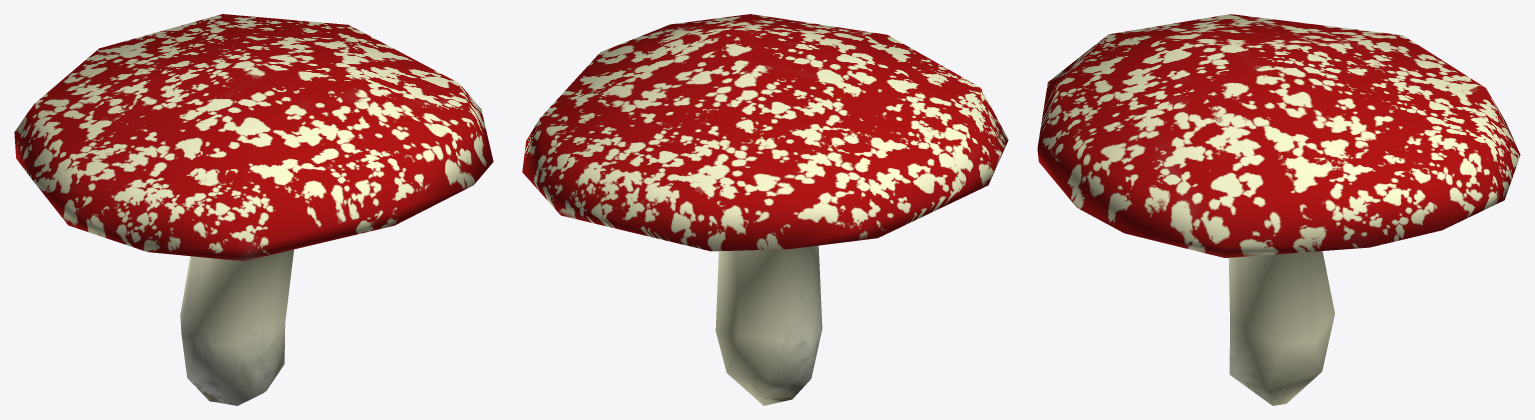
File: Mushroom1.fbx
3 renders of one model, left to right at view 1: azimuth 30°, elevation 25°; view 2: azimuth 150°, elevation 25°; view 3: azimuth 270°, elevation 25°, orthographic. The views are drawn at different scales.
Parts seen in each view (by area): view 1: Mushroom1; view 2: Mushroom1; view 3: Mushroom1.
Boxes of the visible parts, <box> form: Mushroom1: <box>14,14,493,405</box>; Mushroom1: <box>522,14,1008,405</box>; Mushroom1: <box>1037,14,1520,405</box>.
Bounding box in the file's own units: 0.8775 × 0.6779 × 0.8655.
1 material, 1 textured.
